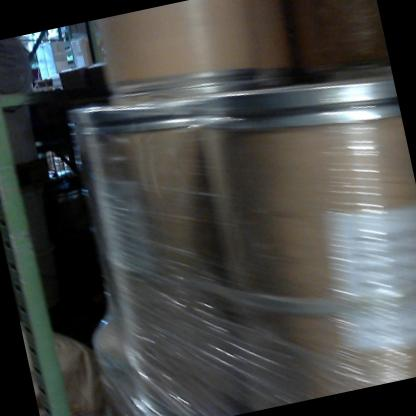stillage: (14, 113, 89, 203)
